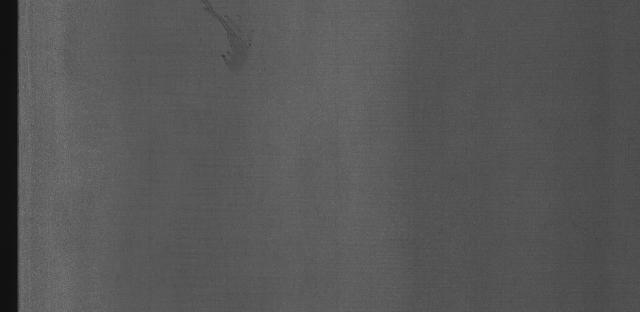water_spot: (198, 2, 259, 84)
